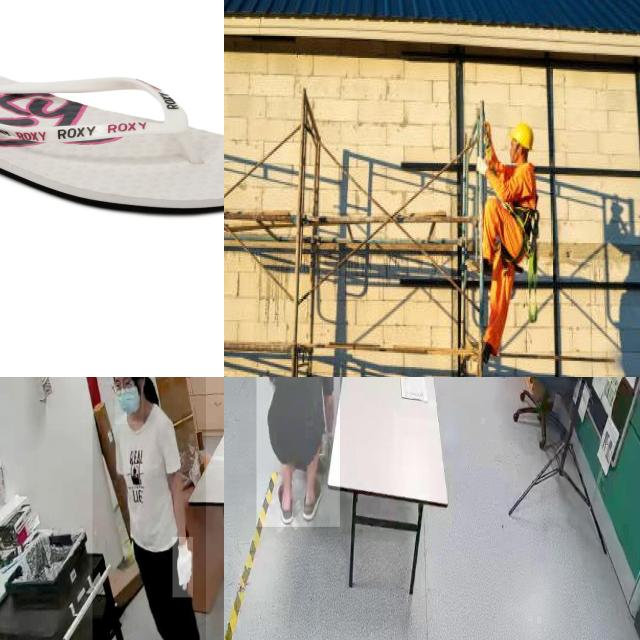Harness: (492, 163, 540, 321)
Sandals: (0, 48, 224, 220)
face_mask: (114, 377, 143, 424)
hand_glove: (172, 537, 194, 598)
person: (92, 377, 206, 640), (256, 377, 340, 527)
shoes: (300, 470, 325, 522), (273, 471, 297, 524)
